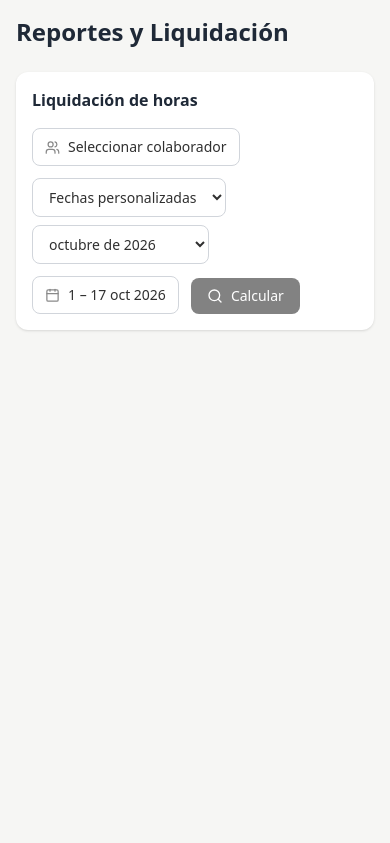
Scenario: el período de pago en el reporte por persona › el recuadro de arriba habla del período, no del mes
The width and height of the screenshot is (390, 843).
What coordinates should you click on to do the following:
click the button "Seleccionar colaborador"
I would click on:
 (136, 147)
Its box is [32,128,240,166].
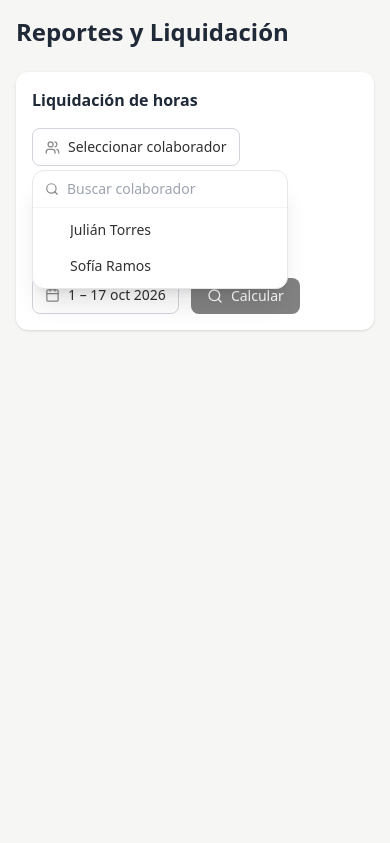
What coordinates should you click on to do the following:
click the button "Julián Torres"
I would click on:
 (160, 230)
Its box is [33,212,287,248].
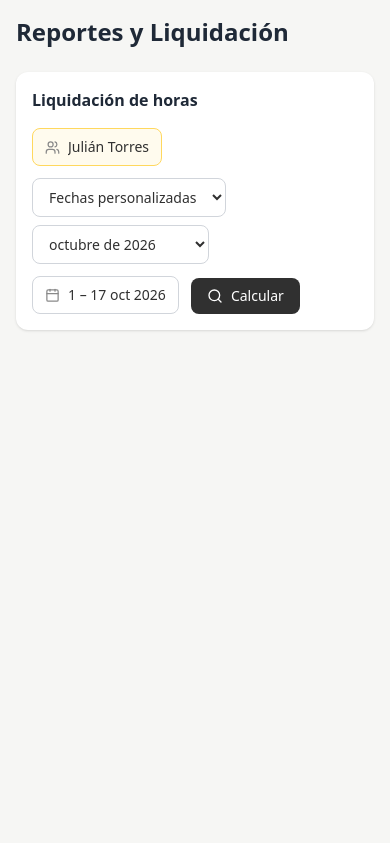
What coordinates should you click on to do the following:
click the button "Calcular"
I would click on:
 (245, 296)
Its box is [191,278,300,314].
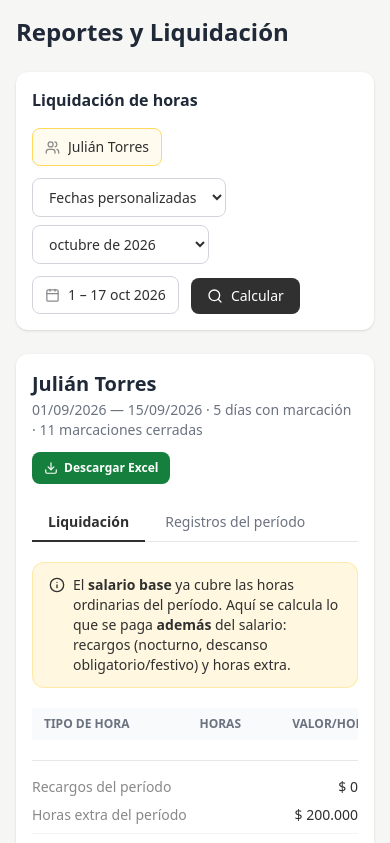
Check: the text "ya cubre las horas ordinarias" shows "ya cubre las horas ordinarias del período", box [73,575,338,634]
